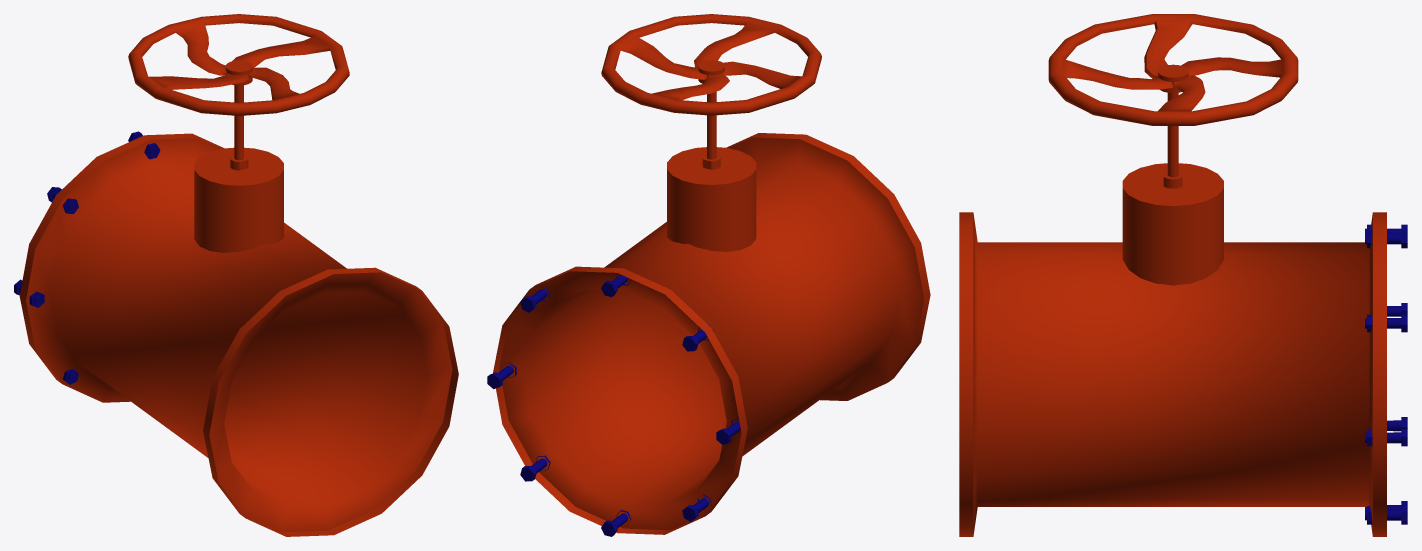
File: MSP_Valve01_BoltX8_01_LOD0.FBX
3 renders of one model, left to right at view 1: azimuth 30°, elevation 25°; view 2: azimuth 150°, elevation 25°; view 3: azimuth 270°, elevation 25°, orthographic. The views are drawn at different scales.
Parts seen in each view (by area): view 1: PipeValve_up1_01_LOD0, Valve_01_LOD0, Bolt_02_LOD0; view 2: PipeValve_up1_01_LOD0, Valve_01_LOD0, Bolt_02_LOD0; view 3: PipeValve_up1_01_LOD0, Valve_01_LOD0, Bolt_02_LOD0.
Part boxes in pixels (left/top/right/bottom): PipeValve_up1_01_LOD0: left=19, top=60, right=458, bottom=536; Valve_01_LOD0: left=128, top=14, right=349, bottom=115; Bolt_02_LOD0: left=14, top=131, right=160, bottom=384; PipeValve_up1_01_LOD0: left=493, top=60, right=930, bottom=534; Valve_01_LOD0: left=601, top=14, right=821, bottom=115; Bolt_02_LOD0: left=487, top=273, right=746, bottom=536; PipeValve_up1_01_LOD0: left=959, top=64, right=1386, bottom=536; Valve_01_LOD0: left=1048, top=14, right=1298, bottom=125; Bolt_02_LOD0: left=1365, top=224, right=1407, bottom=524.
Bounding box in the file's own units: 38 × 59.08 × 52.42.
